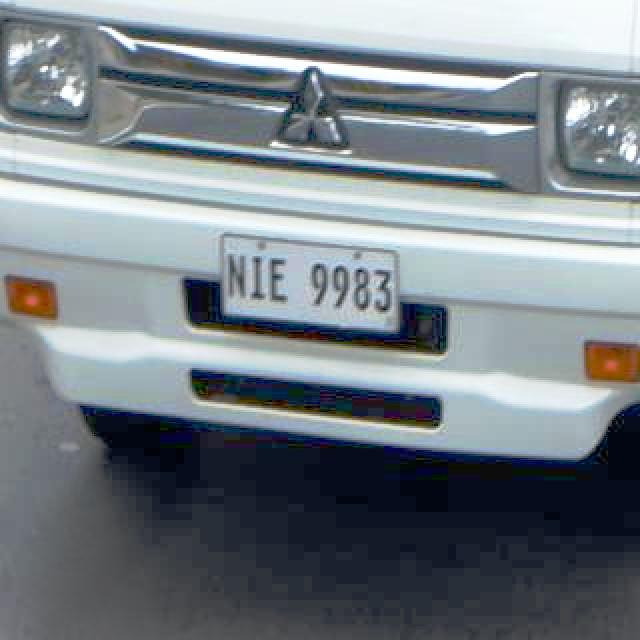license_plate: (221, 236, 403, 332)
